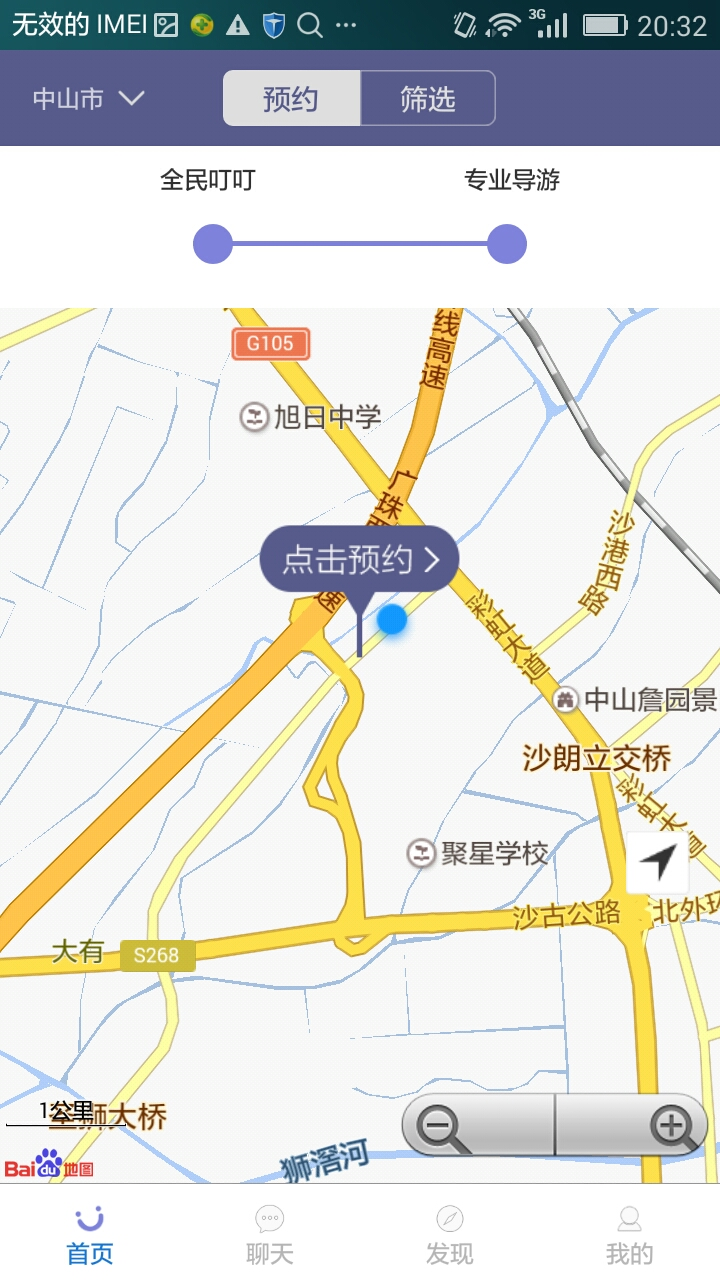imgbutton: (112, 67, 156, 119)
imgview: (4, 300, 720, 1170)
nav: (9, 1176, 717, 1280)
